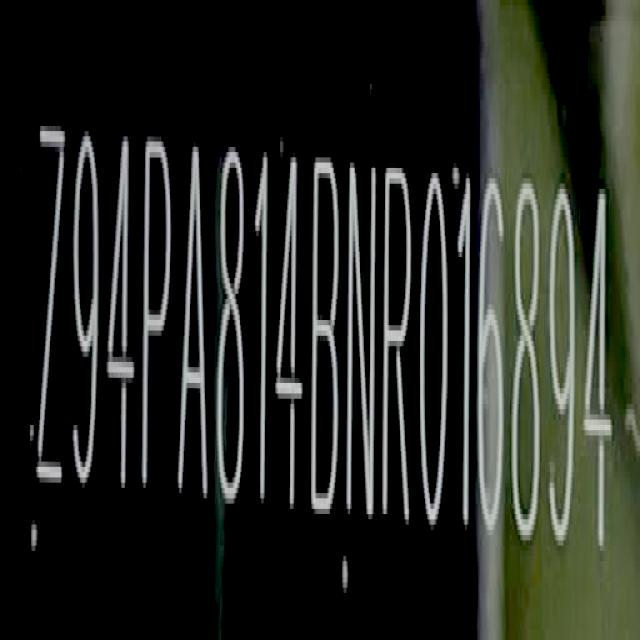0: (420, 164, 452, 540)
1: (255, 144, 274, 518), (455, 170, 473, 544)
4: (584, 186, 618, 562), (106, 128, 137, 508), (277, 143, 307, 522)
6: (476, 171, 507, 546)
8: (216, 143, 249, 512), (513, 176, 544, 548)
9: (72, 121, 102, 501), (550, 182, 580, 554)
A: (176, 134, 211, 517)
B: (310, 151, 343, 524)
N: (349, 154, 380, 533)
P: (142, 132, 176, 510)
R: (384, 158, 417, 538)
Z: (37, 116, 69, 507)
